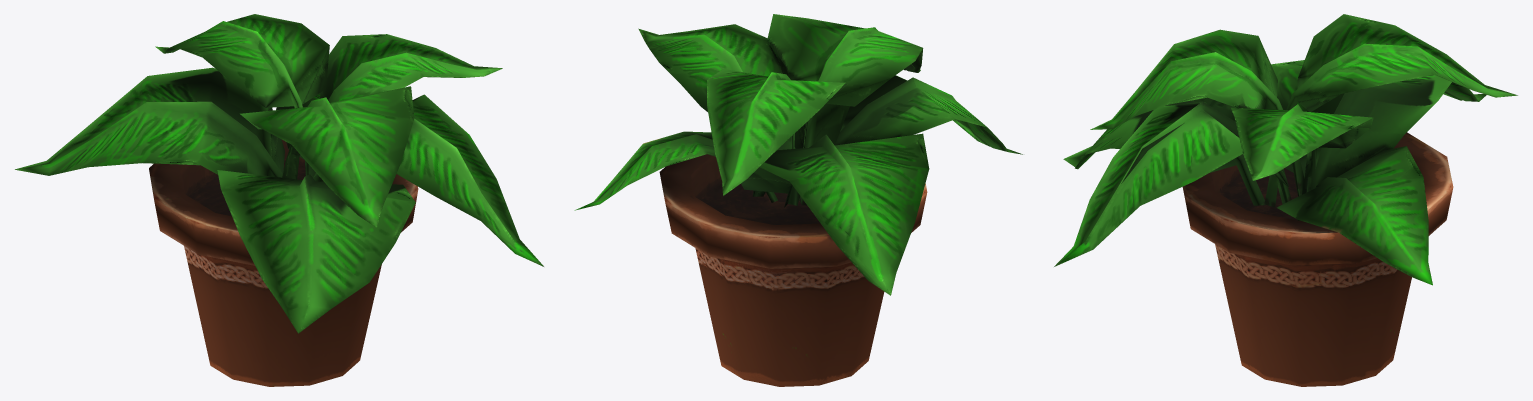
File: flower.fbx
3 renders of one model, left to right at view 1: azimuth 30°, elevation 25°; view 2: azimuth 150°, elevation 25°; view 3: azimuth 270°, elevation 25°, orthographic. The views are drawn at different scales.
Parts seen in each view (by area): view 1: cvece1; view 2: cvece1; view 3: cvece1.
Part boxes in pixels (left/top/right/bottom): cvece1: left=15, top=14, right=543, bottom=386; cvece1: left=574, top=14, right=1022, bottom=386; cvece1: left=1054, top=14, right=1517, bottom=386.
Bounding box in the file's own units: 0.3301 × 0.2585 × 0.3521.
